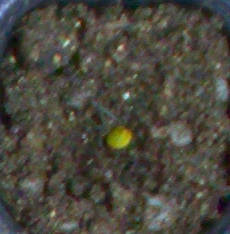pepper seed: (40, 48, 172, 200)
